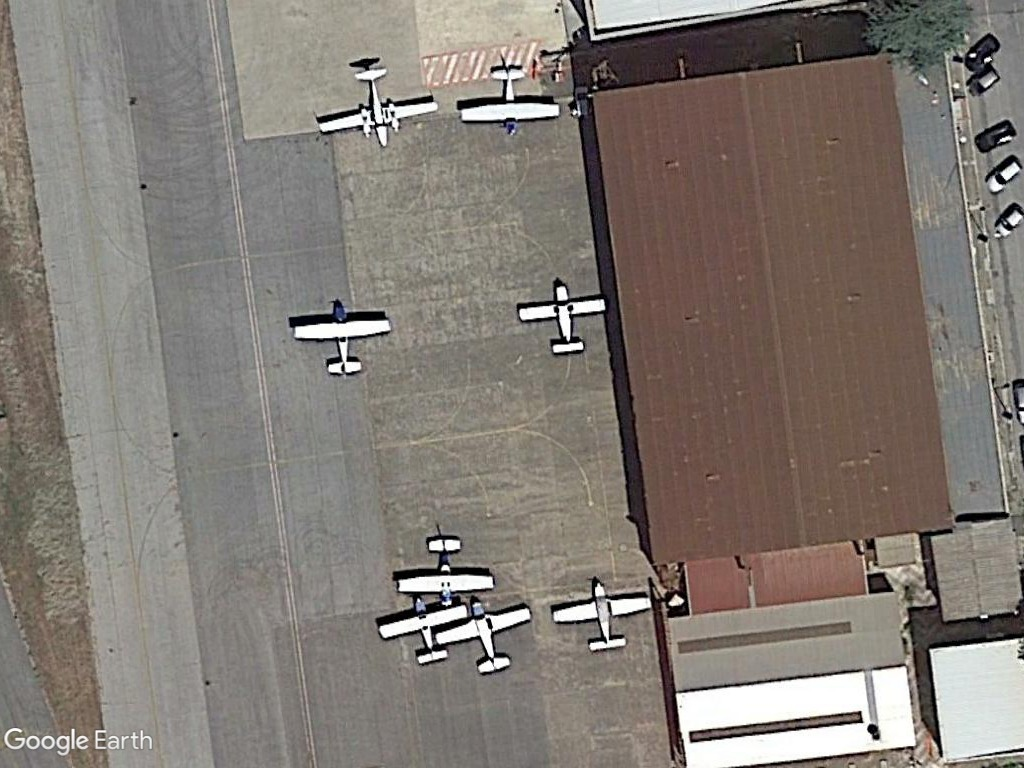car: (982, 156, 1024, 198), (971, 119, 1017, 154), (989, 201, 1024, 240), (963, 66, 1004, 99)
trainer: (314, 67, 439, 151), (287, 299, 394, 382), (547, 578, 652, 656), (433, 592, 529, 677), (456, 65, 564, 140), (390, 536, 498, 610), (513, 281, 608, 362), (370, 595, 470, 668)
